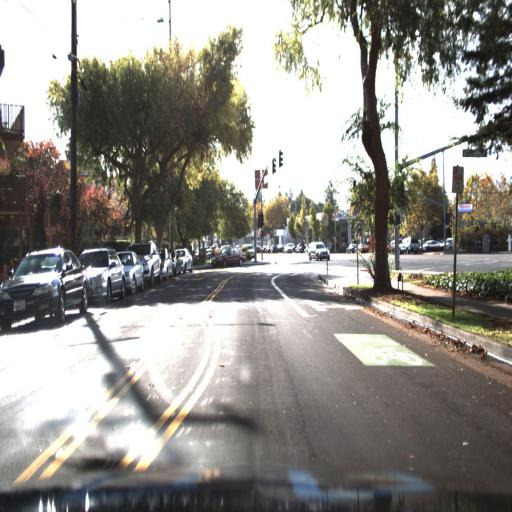car: (0, 240, 93, 339), (87, 245, 126, 307), (207, 242, 250, 272), (122, 246, 146, 294), (142, 242, 163, 288), (305, 238, 335, 264), (161, 244, 174, 285), (441, 236, 464, 256), (239, 239, 258, 262), (419, 238, 442, 254), (386, 236, 398, 256)
